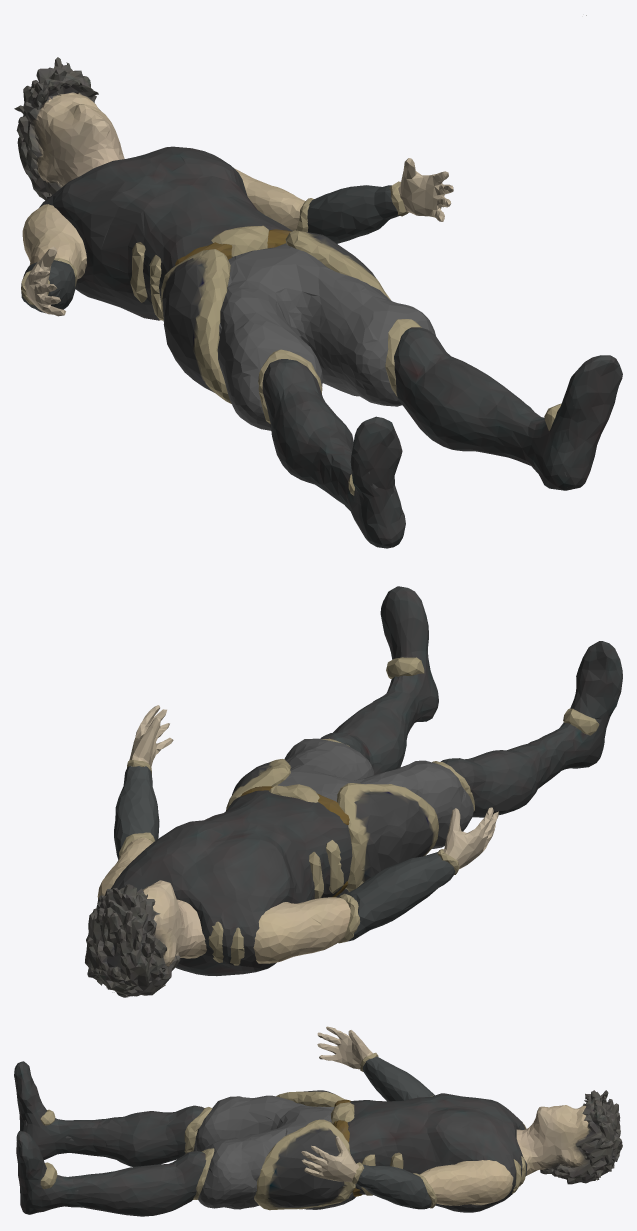
The model's file is Tan.glb.
The picture shows the model from 3 angles, top to bottom: view 1: azimuth 30°, elevation 25°; view 2: azimuth 150°, elevation 25°; view 3: azimuth 270°, elevation 25°; orthographic projection. The views are drawn at different scales.
Size of the model in its own units: 0.3421 by 0.1676 by 0.4942.
